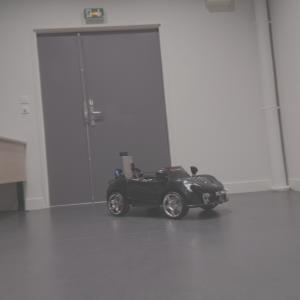big: (104, 165, 231, 221)
